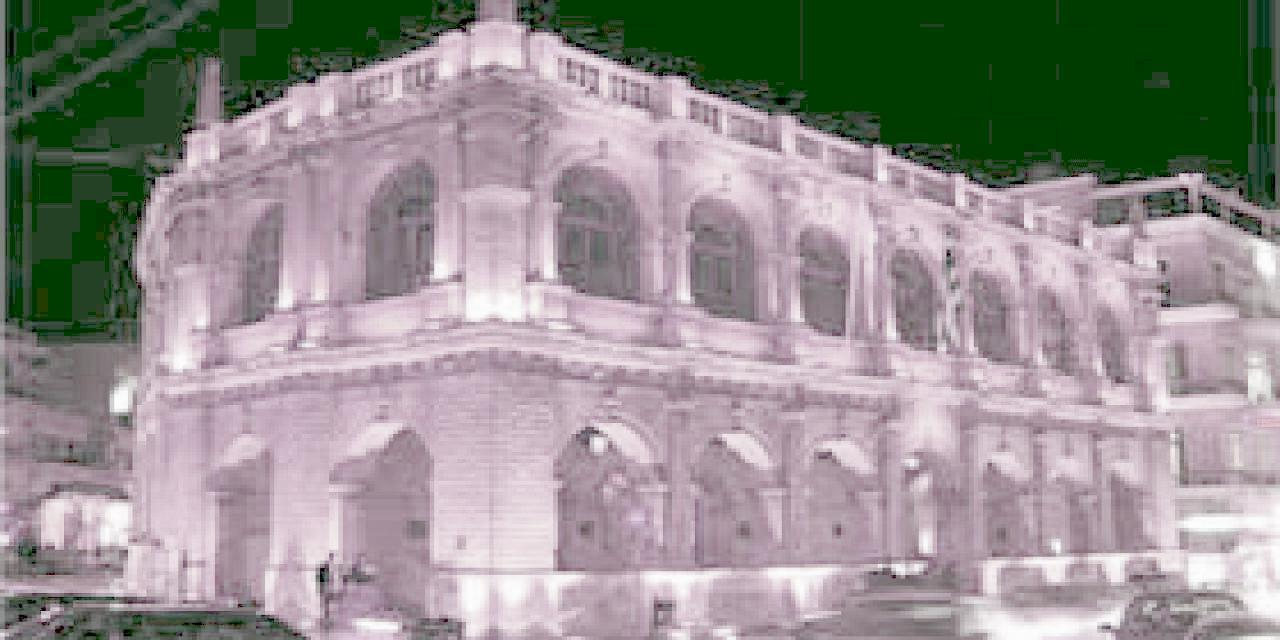Loggia: (117, 1, 1168, 639)
